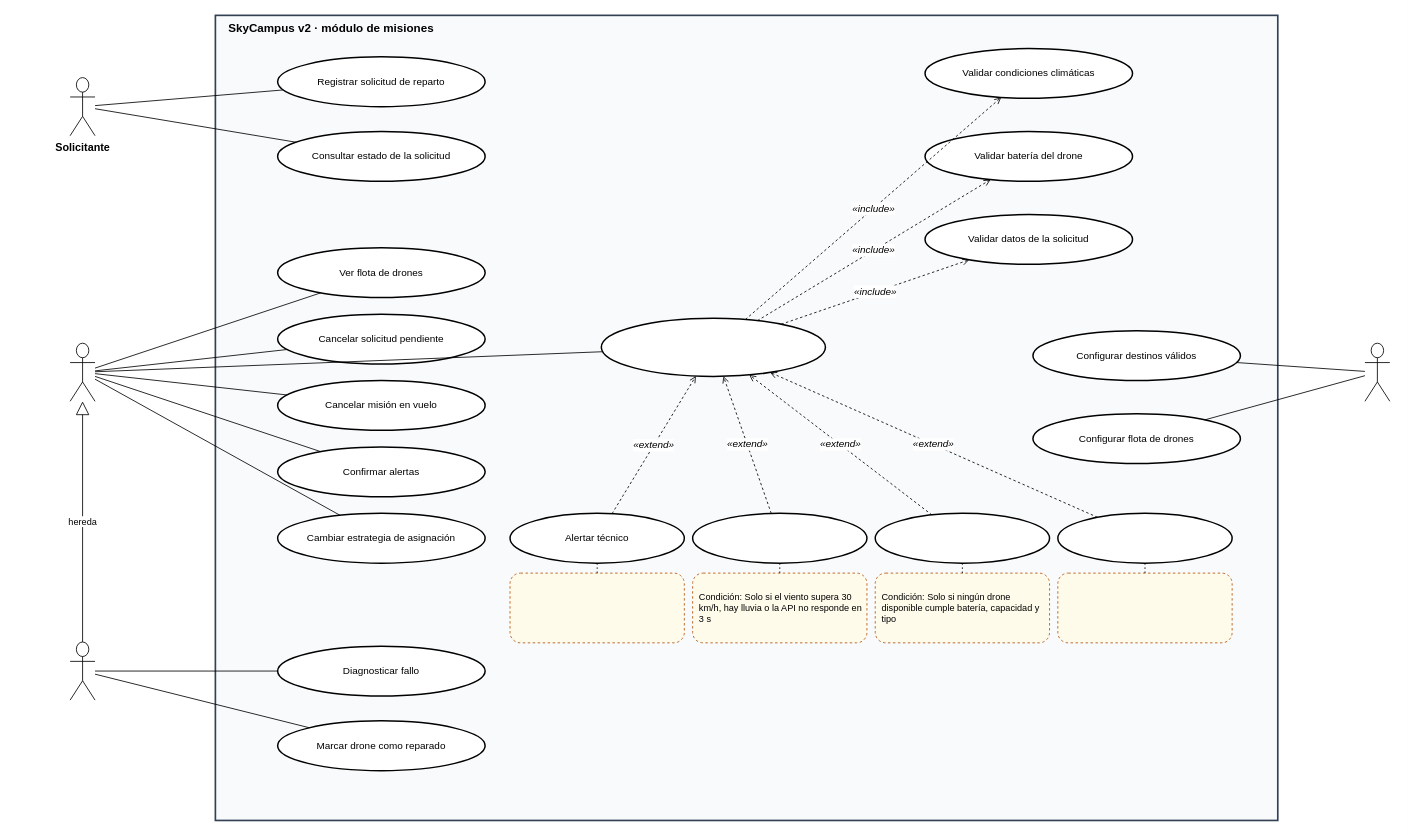
Some shapes in this 1408 by 835 pixel diagram are drawn without their labels. Each missing label, with the box of its shape:
Admin: (1364, 342, 1390, 401)
Asignar drone a misión: (600, 317, 826, 377)
Condición: Solo si el drone elegido tiene batería entre 30% y 40% (inclusive): (509, 572, 684, 643)
Condición: Solo si el paquete pesa más de 2000 g: (1057, 572, 1232, 643)
Informar clima no apto: (691, 512, 867, 563)
Informar que no hay drone apto: (874, 512, 1050, 563)
Operador de drones: (69, 342, 95, 401)
Rechazar solicitud por peso: (1057, 512, 1232, 563)
Técnico de mantenimiento: (69, 641, 95, 700)
